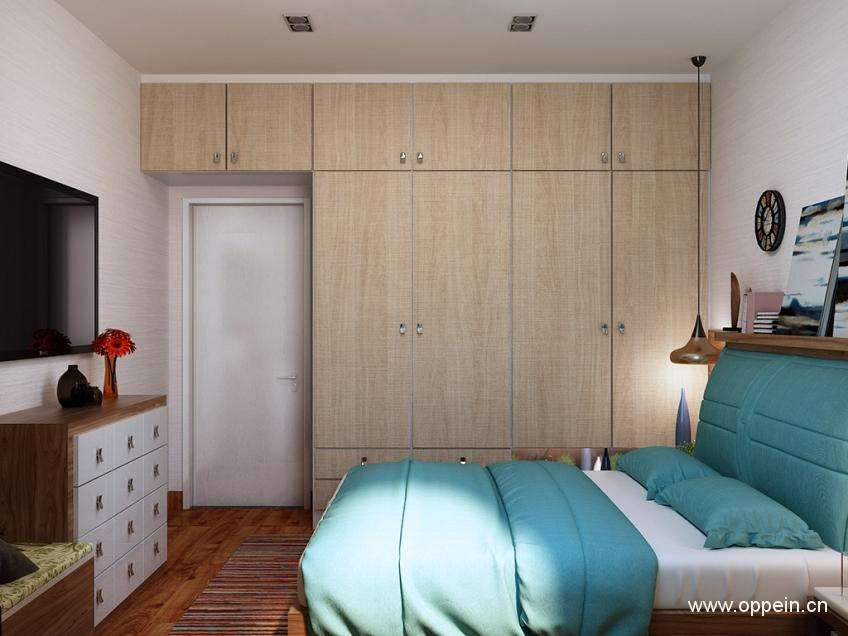床: (271, 455, 829, 632)
枕头: (627, 443, 811, 559)
灯: (678, 54, 726, 368), (284, 14, 319, 39), (510, 14, 544, 38)
